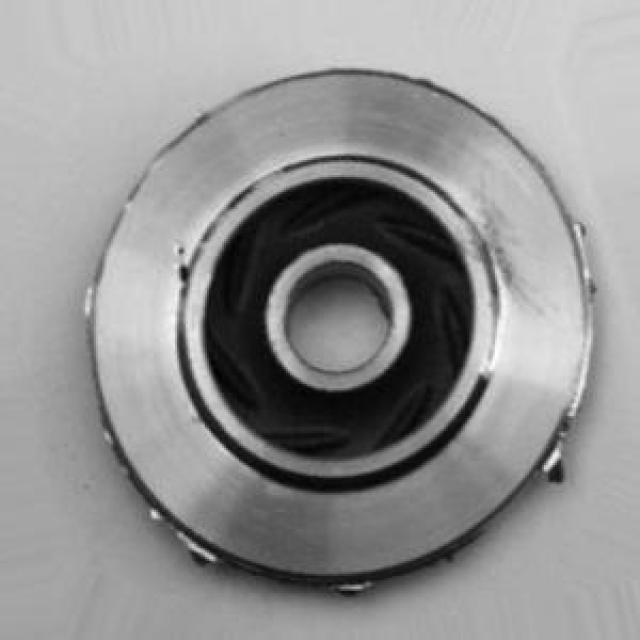Defect: (160, 236, 212, 302), (538, 436, 578, 499), (184, 523, 212, 579)
